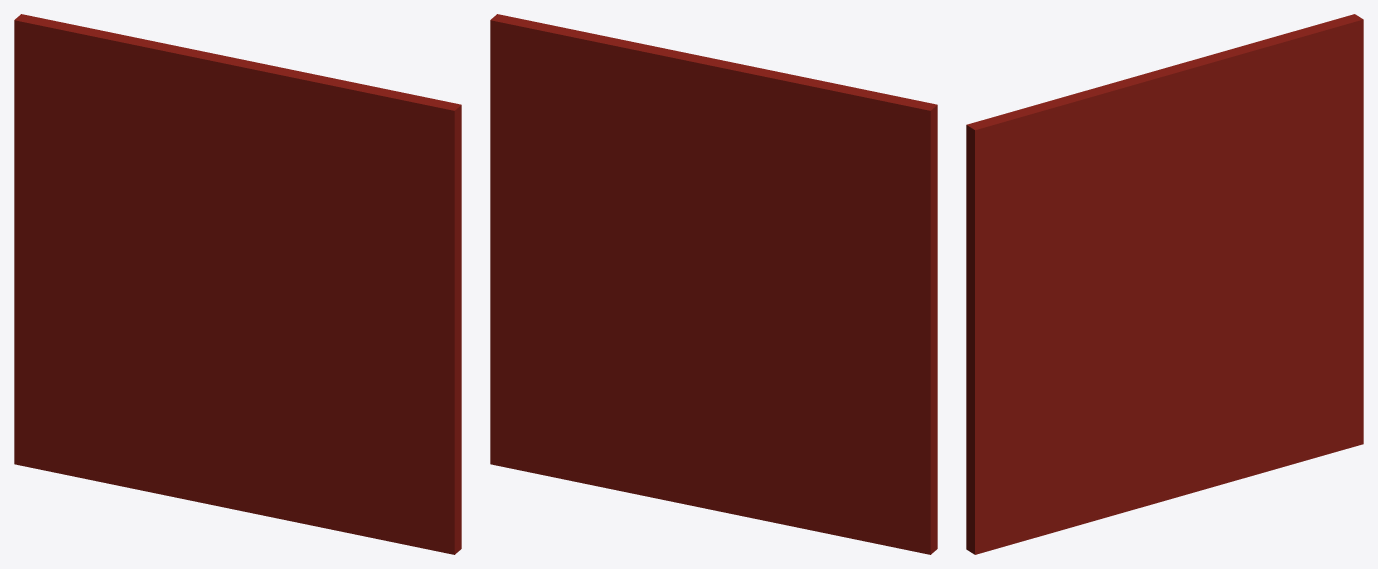
The model's file is mur 1.fbx.
3 views of the same model, side by side, from view 1: azimuth 30°, elevation 25°; view 2: azimuth 210°, elevation 25°; view 3: azimuth 270°, elevation 25° (orthographic). The views are drawn at different scales.
Parts seen in each view (by area): view 1: Steve1; view 2: Steve1; view 3: Steve1.
Part boxes in pixels (x1=…): Steve1: x1=14, y1=14, x2=461, y2=554; Steve1: x1=490, y1=14, x2=937, y2=554; Steve1: x1=966, y1=14, x2=1363, y2=554.
Size of the model in its own units: 35.23 by 60 by 50.85.
